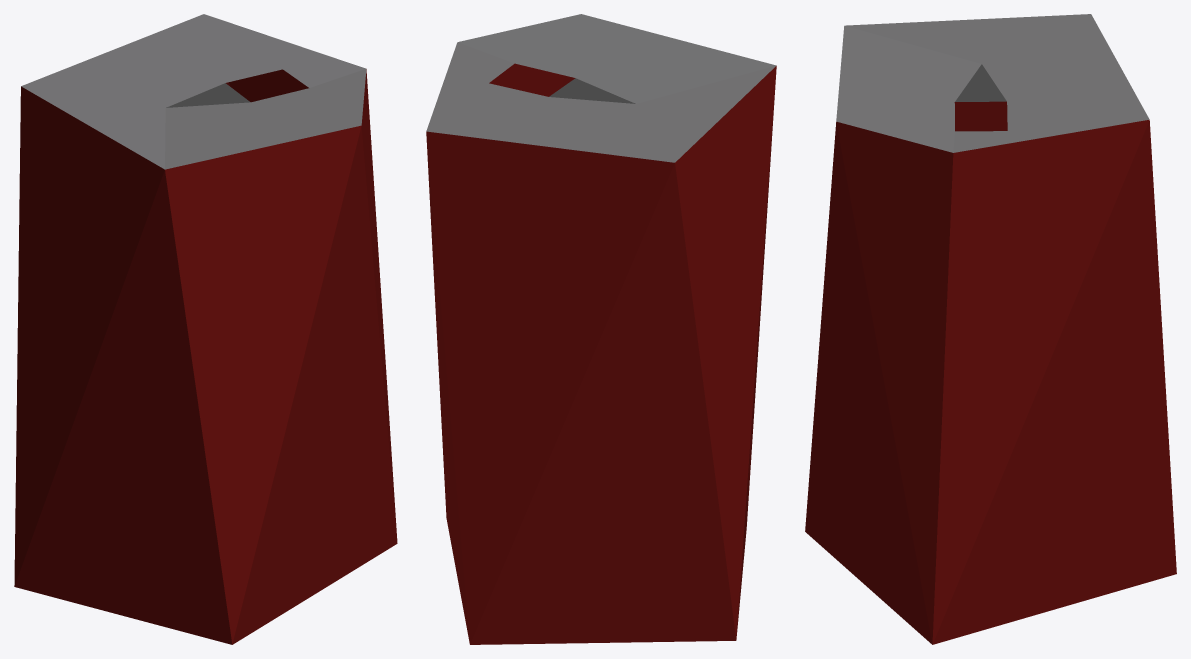
Rendered from Waste.fbx.
The picture shows the model from 3 angles, left to right: view 1: azimuth 30°, elevation 25°; view 2: azimuth 150°, elevation 25°; view 3: azimuth 270°, elevation 25°; orthographic projection. The views are drawn at different scales.
Parts seen in each view (by area): view 1: Cylinder; view 2: Cylinder; view 3: Cylinder.
Part boxes in pixels (x1,y1,x2,y2): Cylinder: (14,14,397,644); Cylinder: (426,14,776,644); Cylinder: (805,14,1176,644).
Bounding box in the file's own units: 48.97 × 66.78 × 46.65.
